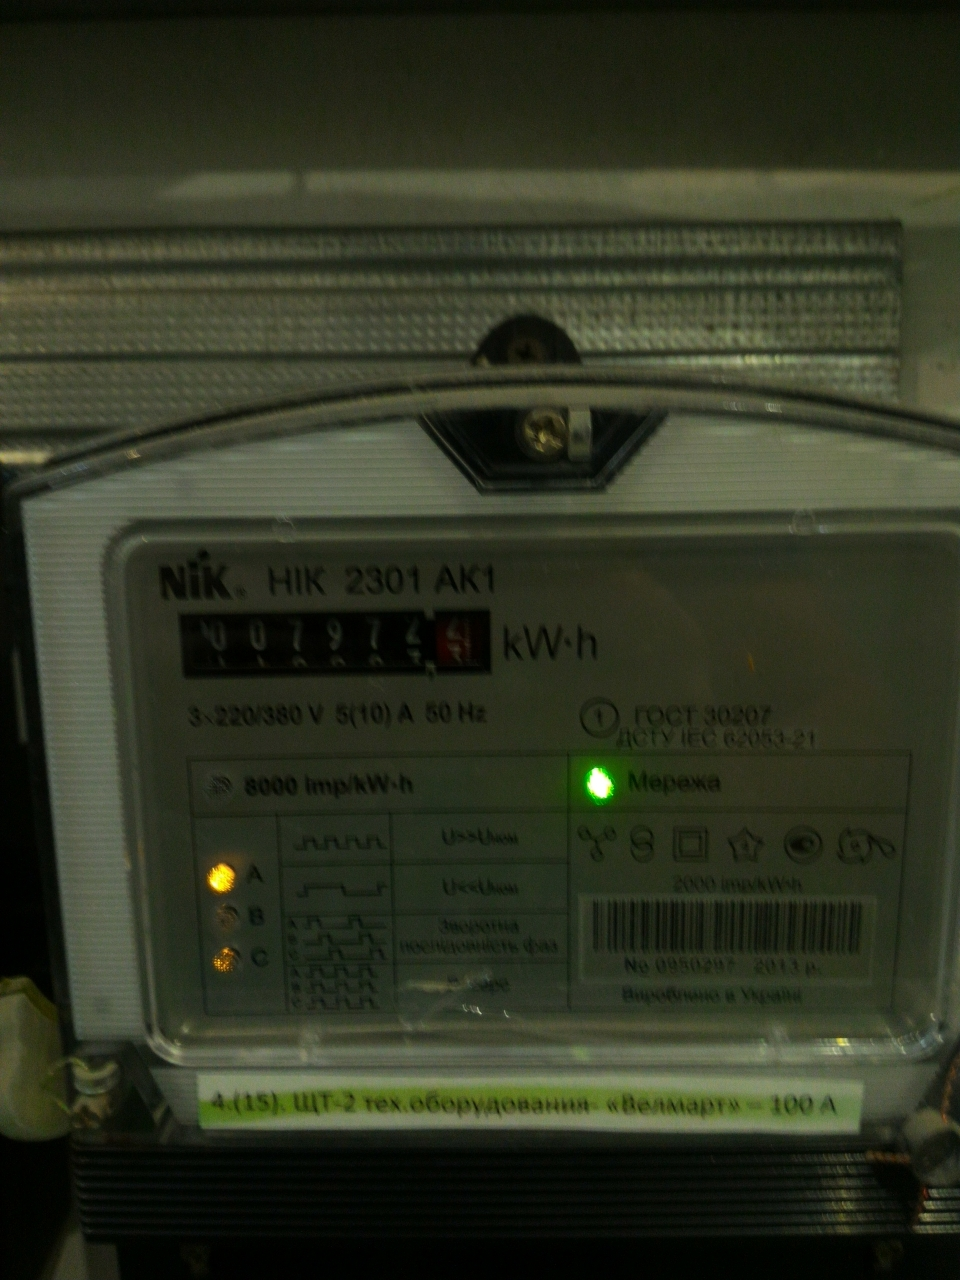0: (206, 617, 229, 653), (245, 617, 268, 653)
2: (401, 612, 424, 647), (443, 612, 467, 643)
7: (363, 614, 384, 651), (286, 617, 305, 653)
9: (324, 616, 345, 652)
screen: (167, 597, 506, 689)
